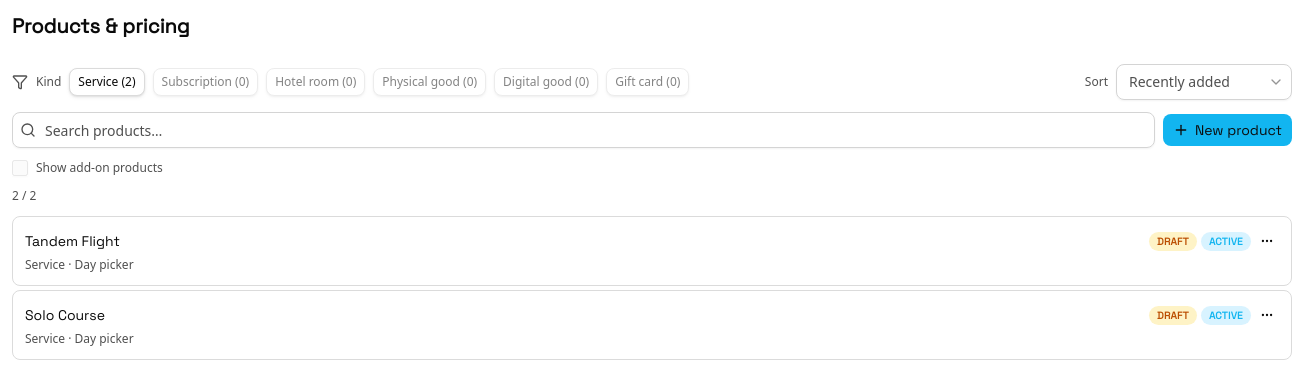
Test case: Products route › filters the list by name
The image size is (1304, 377).
Expected: the option "Solo Course Draft Active Service · Day picker" is shown, [12,290,1292,360]
Step 1. Type "Solo" into the field labelled "Search products…" → (583, 130), box [12,112,1155,148]
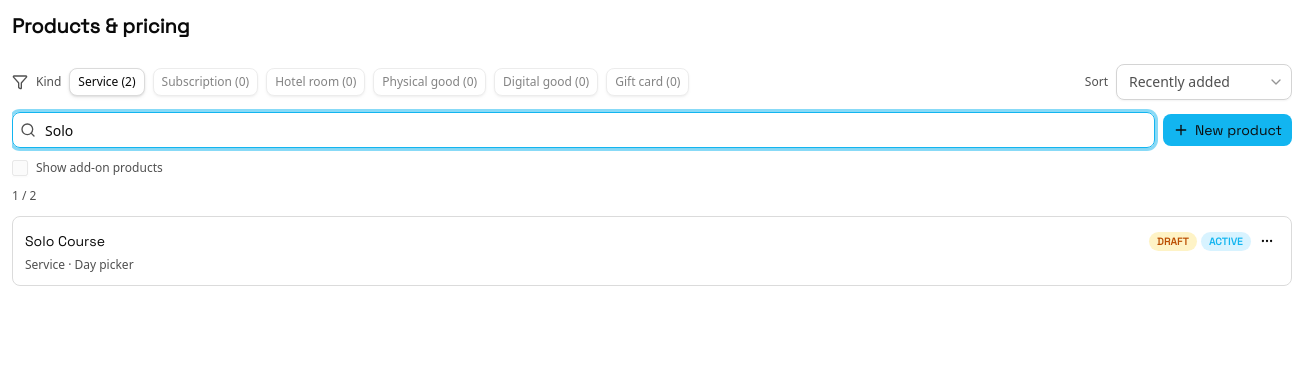
Expected: the option "Solo Course Draft Active Service · Day picker" is shown, [12,216,1292,286]
Expected: the option "Tandem Flight" is gone
